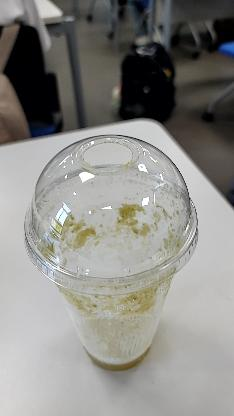Plastic Cup: (22, 134, 200, 374), (23, 132, 201, 296)
